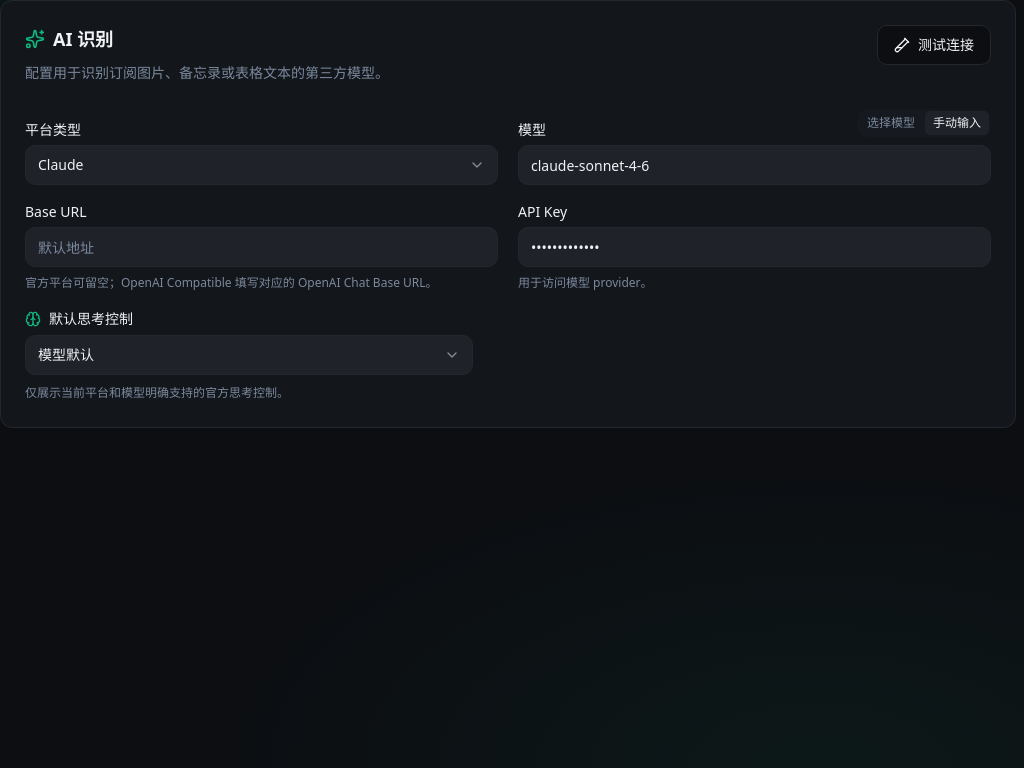
AIRecognitionSettingsSection provider model layout › keeps last provider response entry after switching back to manual input
Click the button "选择模型".
click(891, 123)  # box [859,111,923,135]
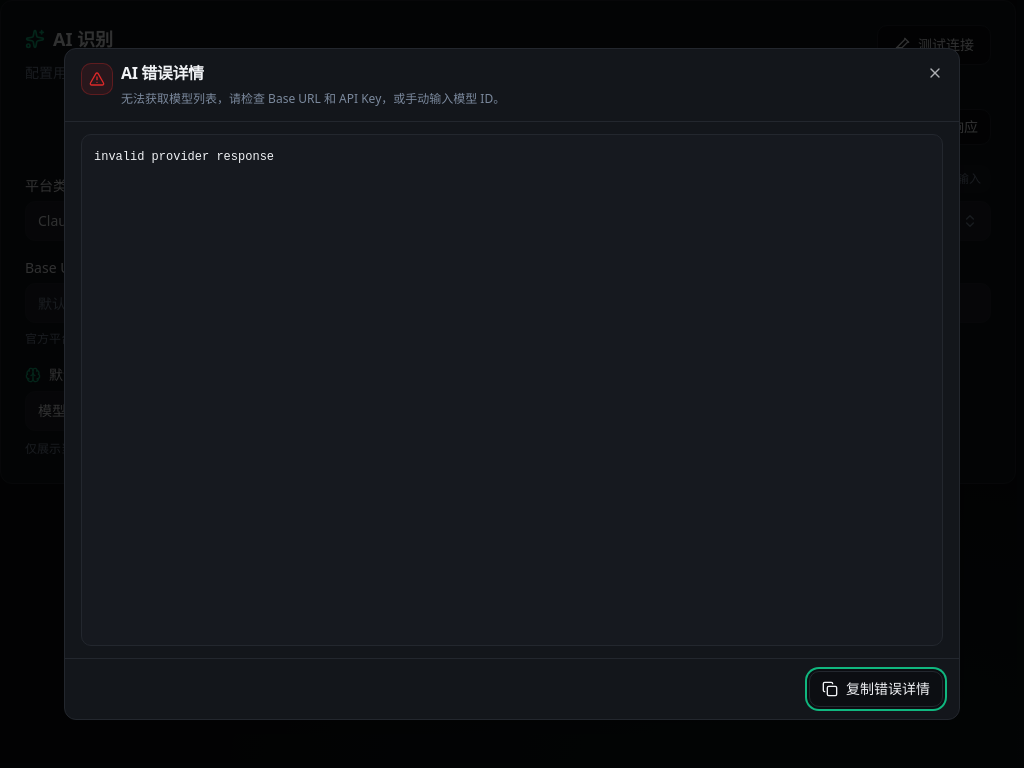
Expected: the dialog "AI 错误详情" is shown
Click the button named "关闭".
click(935, 73)  # box [927,65,943,81]
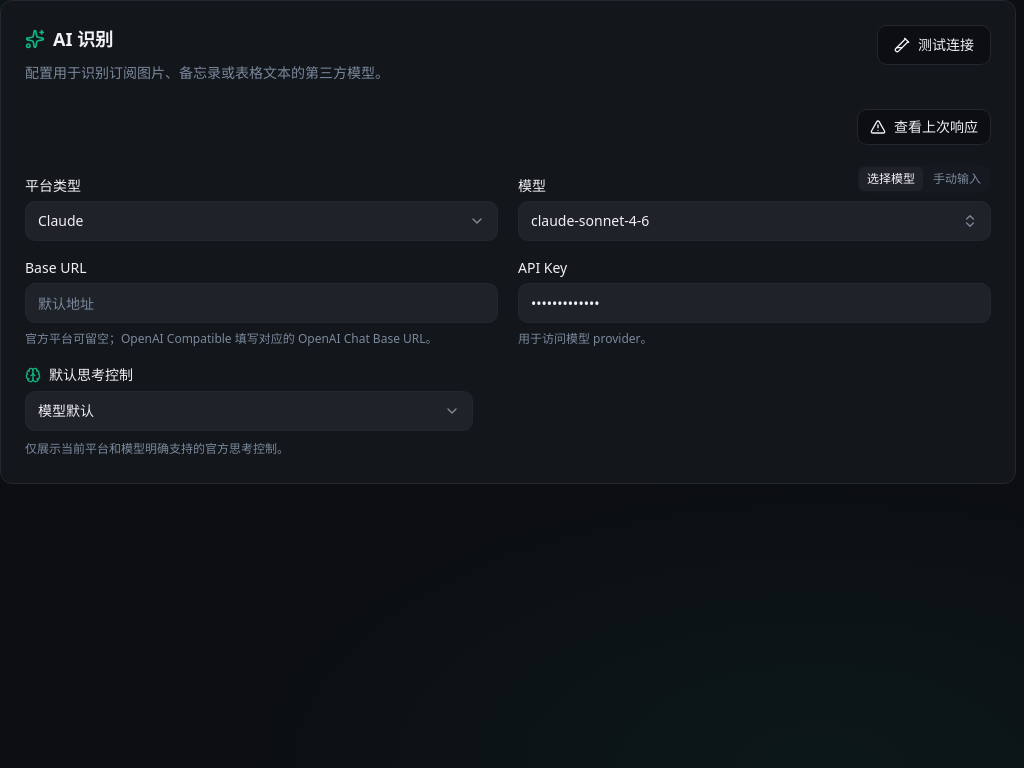
Expected: the button "查看上次响应" is shown, [857,109,991,145]
Click the button "手动输入".
click(957, 179)  # box [925,167,989,191]
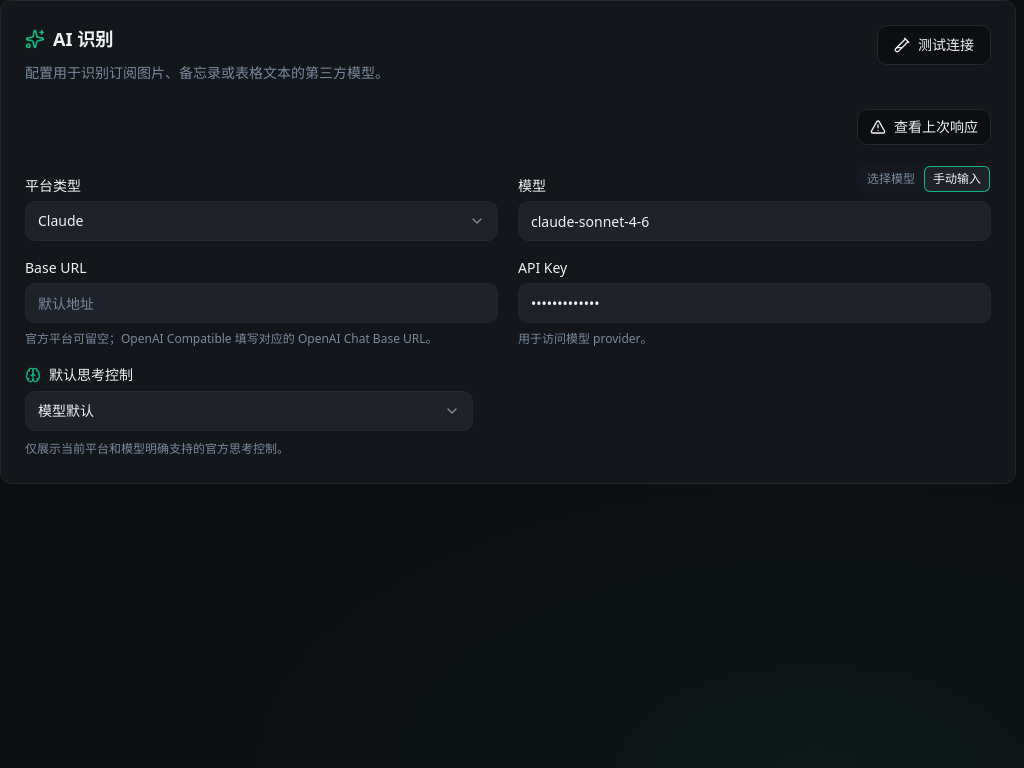
Expected: the button "查看上次响应" is shown, [857,109,991,145]
Expected: the field labelled "模型" is shown, [518,201,991,241]
